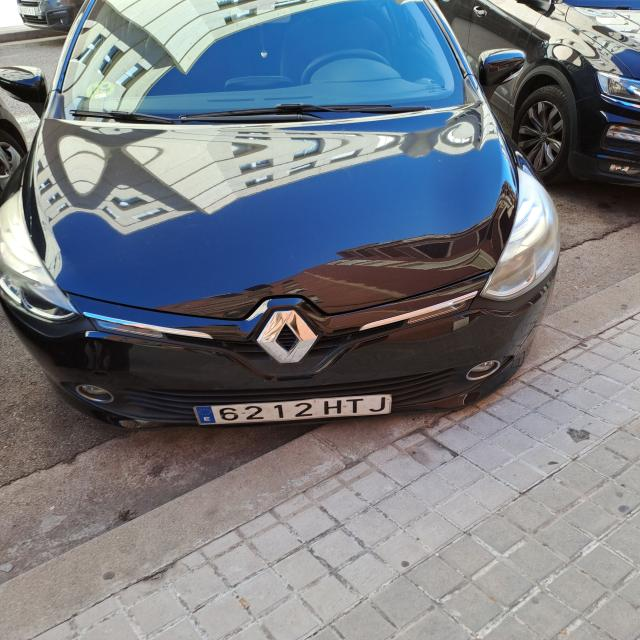license_plate-34Td: (193, 394, 391, 425)
